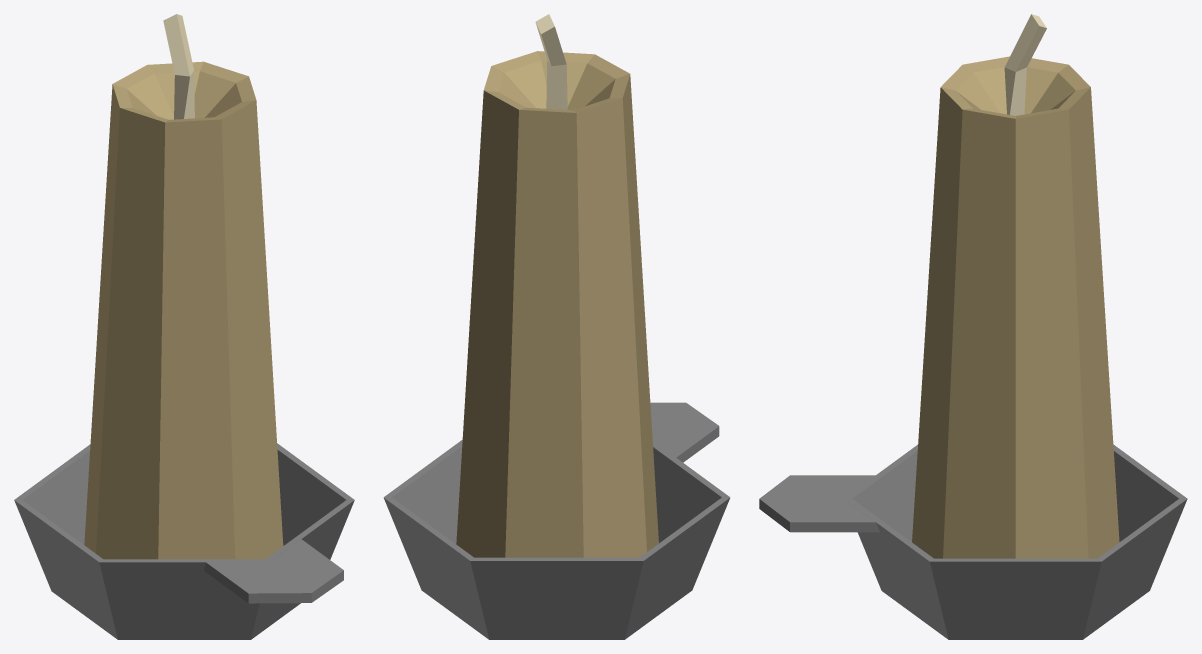
File: Candle.fbx
3 renders of one model, left to right at view 1: azimuth 30°, elevation 25°; view 2: azimuth 150°, elevation 25°; view 3: azimuth 270°, elevation 25°, orthographic.
Visible parts, largest first — view 1: Cylinder.002; view 2: Cylinder.002; view 3: Cylinder.002.
Boxes of the visible parts, left/top/right/bottom form: Cylinder.002: left=14, top=14, right=354, bottom=639; Cylinder.002: left=383, top=14, right=730, bottom=639; Cylinder.002: left=759, top=14, right=1187, bottom=639.
Bounding box in the file's own units: 0.1671 × 0.3571 × 0.2403.
